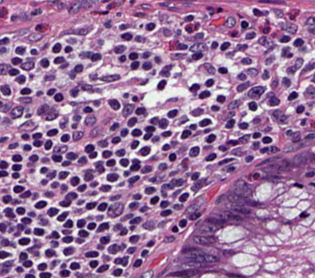nucleus: (234, 180, 250, 196), (257, 156, 279, 166), (292, 153, 308, 166), (248, 86, 264, 98), (191, 178, 205, 191), (69, 1, 82, 13), (282, 23, 297, 33), (190, 43, 206, 52), (285, 143, 303, 151), (122, 104, 133, 116), (263, 164, 279, 172), (101, 74, 119, 81), (160, 65, 171, 76), (46, 109, 57, 120), (37, 104, 48, 114), (84, 115, 95, 125), (237, 82, 249, 91), (265, 175, 280, 182), (204, 63, 214, 73), (109, 99, 119, 109), (189, 146, 199, 156), (228, 100, 239, 109), (226, 17, 235, 27), (269, 96, 279, 105), (272, 110, 281, 120), (114, 45, 125, 53), (294, 58, 302, 69), (29, 33, 41, 40), (171, 179, 183, 186), (278, 114, 287, 123), (225, 119, 234, 128), (73, 131, 82, 140), (70, 176, 79, 185), (247, 68, 257, 76), (291, 132, 299, 142), (139, 147, 149, 155), (66, 152, 76, 160), (107, 173, 117, 181), (219, 158, 232, 164), (191, 108, 202, 115), (253, 8, 262, 16), (306, 17, 314, 26), (294, 38, 303, 46), (52, 43, 60, 52), (40, 58, 48, 67), (305, 62, 314, 70), (282, 77, 290, 86), (157, 80, 165, 89), (128, 117, 136, 126), (159, 119, 167, 128), (181, 130, 190, 138), (44, 140, 52, 149), (59, 171, 68, 179), (31, 8, 41, 15), (199, 91, 209, 98), (135, 107, 145, 114), (60, 118, 67, 128), (200, 119, 210, 126), (239, 135, 249, 142), (258, 36, 266, 44), (221, 42, 229, 50), (265, 56, 273, 64), (74, 64, 82, 72), (54, 93, 62, 101), (207, 134, 215, 142), (85, 144, 93, 152), (191, 172, 199, 180), (246, 32, 255, 39), (91, 53, 100, 60), (190, 84, 199, 91), (288, 92, 297, 99), (168, 110, 177, 117), (239, 122, 248, 129), (206, 153, 215, 160), (52, 155, 61, 162), (84, 173, 93, 180), (145, 187, 154, 194), (74, 29, 86, 34), (121, 33, 131, 39), (237, 44, 247, 50), (192, 53, 202, 59), (241, 58, 251, 64), (47, 129, 57, 135), (268, 146, 278, 152), (232, 149, 242, 155), (141, 166, 151, 172), (100, 185, 110, 191), (146, 23, 154, 30), (163, 28, 171, 35), (131, 61, 138, 69), (143, 62, 151, 69), (237, 73, 245, 80), (205, 79, 213, 86), (47, 88, 55, 95), (71, 88, 78, 96), (249, 102, 256, 110), (296, 105, 303, 113), (110, 123, 118, 130), (132, 129, 140, 136), (61, 134, 69, 141), (263, 136, 271, 143), (116, 149, 124, 156), (78, 157, 86, 164), (120, 159, 128, 166), (47, 171, 55, 178), (78, 184, 86, 191), (80, 52, 91, 57), (194, 32, 203, 38), (280, 36, 289, 42), (54, 57, 63, 63), (218, 67, 227, 73), (262, 70, 268, 79), (98, 140, 107, 146), (102, 151, 111, 157), (129, 176, 138, 182), (290, 11, 297, 18), (241, 21, 248, 28), (306, 87, 313, 94), (217, 95, 224, 102), (150, 117, 157, 124), (131, 141, 138, 148), (89, 151, 96, 158), (96, 165, 103, 172), (274, 10, 282, 16), (282, 47, 288, 55), (129, 53, 137, 59), (287, 67, 295, 73), (271, 79, 277, 87), (146, 126, 154, 132), (33, 133, 41, 139), (305, 133, 313, 139), (33, 140, 41, 146), (30, 155, 38, 161), (106, 159, 114, 165), (131, 164, 139, 170), (177, 44, 186, 49), (45, 75, 54, 80), (185, 15, 192, 21), (186, 25, 192, 32), (143, 52, 150, 58), (73, 115, 80, 121), (121, 129, 127, 136), (253, 132, 260, 138), (144, 133, 151, 139), (112, 137, 119, 143), (162, 144, 169, 150), (261, 147, 268, 153), (169, 153, 175, 160), (245, 156, 252, 162), (159, 163, 166, 169), (120, 24, 128, 29), (36, 25, 44, 30), (173, 54, 183, 58), (84, 107, 92, 112), (162, 131, 170, 136), (226, 166, 234, 171), (104, 21, 110, 27), (263, 27, 269, 33), (211, 42, 217, 48), (65, 46, 71, 52), (81, 85, 90, 89), (286, 130, 292, 136), (228, 140, 237, 144), (61, 184, 67, 190), (40, 167, 47, 172), (306, 171, 313, 176), (51, 182, 58, 187), (58, 147, 66, 151), (136, 36, 142, 41), (31, 49, 37, 54), (119, 56, 125, 61), (132, 96, 138, 101), (253, 118, 259, 123), (253, 142, 258, 148), (309, 26, 313, 33), (285, 53, 292, 57), (219, 146, 226, 150), (62, 161, 69, 165), (45, 192, 52, 196), (155, 57, 160, 62), (190, 124, 195, 129), (253, 173, 258, 178), (41, 179, 46, 184), (136, 13, 144, 16), (61, 63, 67, 67), (212, 106, 218, 110), (133, 159, 139, 163), (149, 177, 155, 181), (91, 182, 97, 186), (108, 4, 113, 8), (70, 73, 74, 78), (94, 101, 99, 105), (153, 137, 158, 141), (42, 158, 47, 162), (124, 171, 129, 175), (124, 93, 128, 97), (301, 120, 305, 124), (72, 124, 76, 128), (67, 40, 74, 42), (37, 92, 41, 95)
